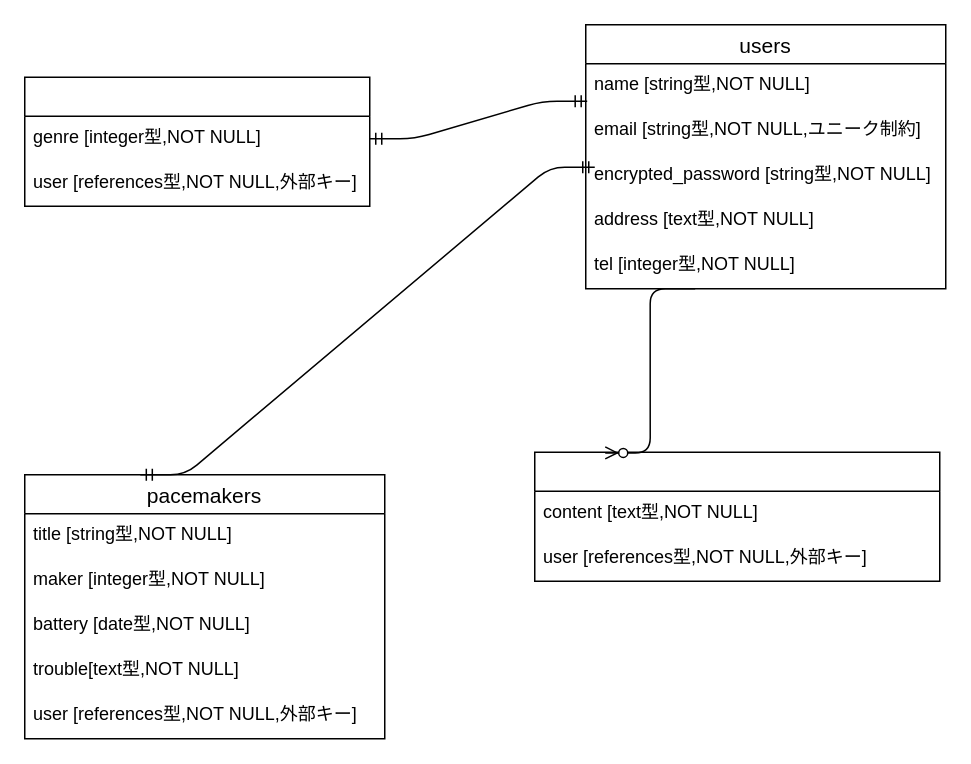
Some shapes in this 971 by 764 pixel diagram are drawn without their labels. The shapes that lost their labels are listed below. From the top down, each one's box as (x1, y1, x2, y2) in pixels, then its label:
(23, 76, 370, 206): category
(533, 451, 940, 581): comments
